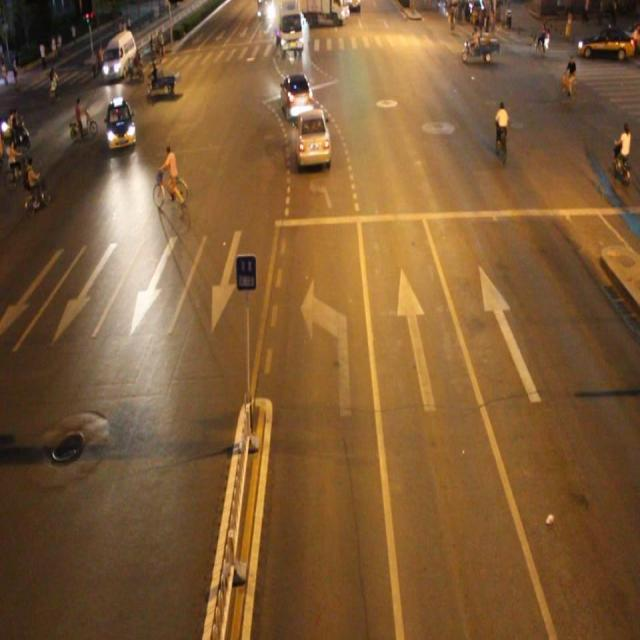BigCar: (276, 2, 306, 54)
car: (578, 24, 634, 65), (294, 111, 332, 166), (103, 101, 136, 154), (105, 34, 135, 80), (280, 76, 314, 115)
